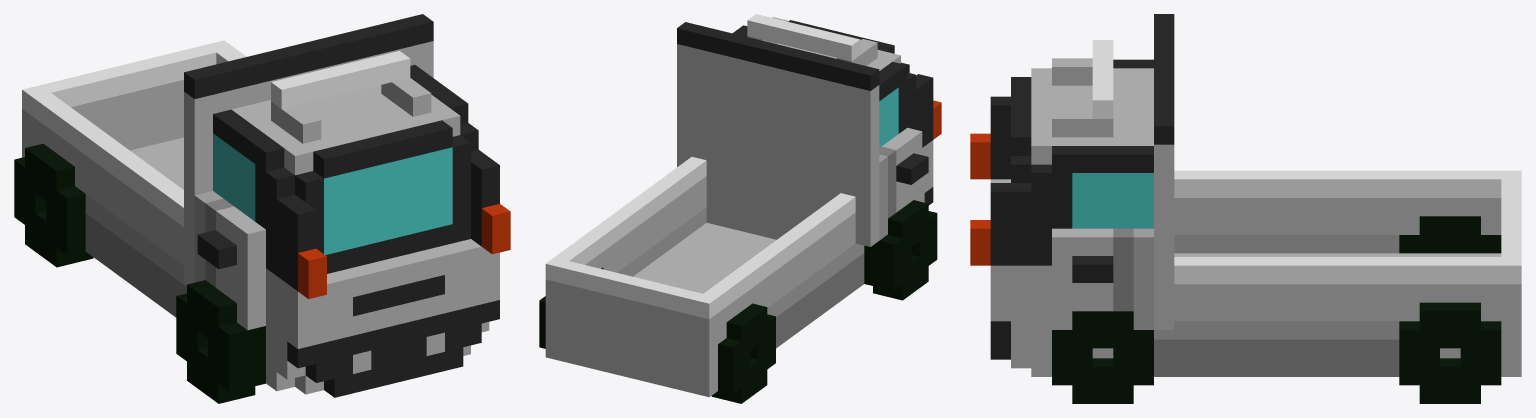
The model's file is car.obj.
3 renders of one model, left to right at view 1: azimuth 30°, elevation 25°; view 2: azimuth 150°, elevation 25°; view 3: azimuth 270°, elevation 25°, orthographic. The views are drawn at different scales.
Parts seen in each view (by area): view 1: car; view 2: car; view 3: car.
Boxes of the visible parts, bbox=[...] form: car: bbox=[14, 14, 510, 403]; car: bbox=[539, 14, 941, 403]; car: bbox=[970, 14, 1521, 403].
Size of the model in its own units: 15 by 15 by 27.
1 material, 1 textured.
